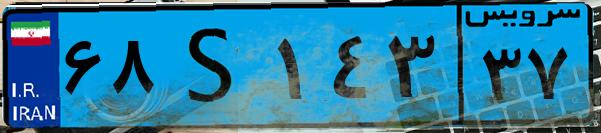1: (270, 28, 330, 110)
3: (385, 28, 445, 110), (475, 38, 525, 113)
4: (330, 28, 385, 110)
6: (57, 26, 110, 100)
7: (525, 38, 570, 115)
8: (110, 28, 158, 98)
S: (158, 12, 270, 120)
